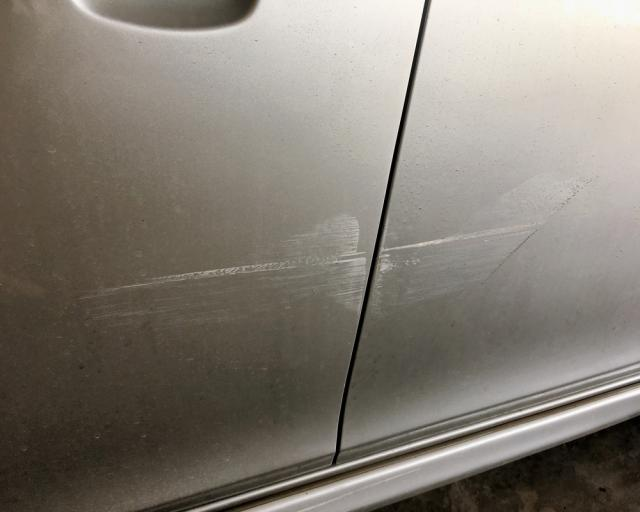scratch: (82, 210, 371, 328), (363, 219, 548, 315)
